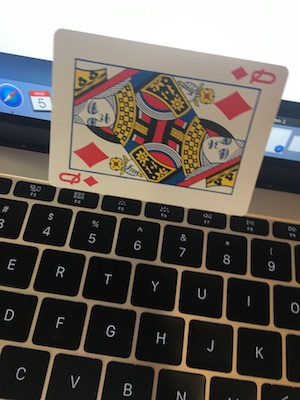QueenOfDiamonds: (29, 22, 288, 223)
